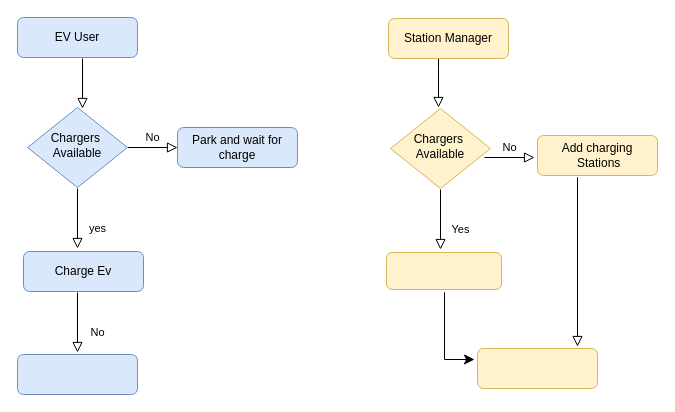
Image size: 675x412. Some labels were removed from this diagram. Here are the shapes that lost their labels. From the top down, the centre of each, then its label:
point (444, 271): Monitor stations
point (77, 374): Exit Parking Station
point (537, 368): Create Reports
